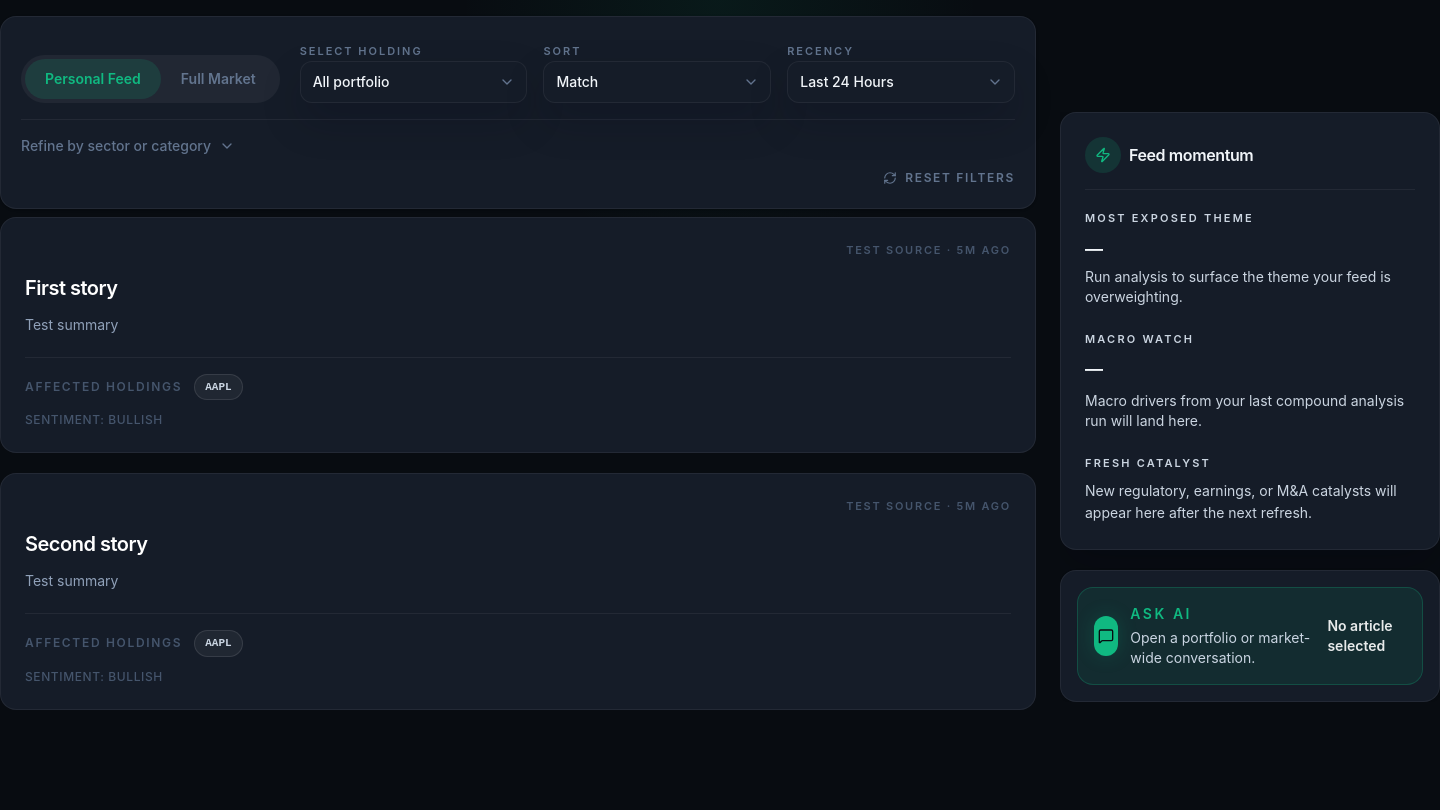
Test: FeedView › shows a confirmation modal before switching active story chats
Click the heading "First story" at (71, 288), box [25,276,118,300]
(page scrolled)
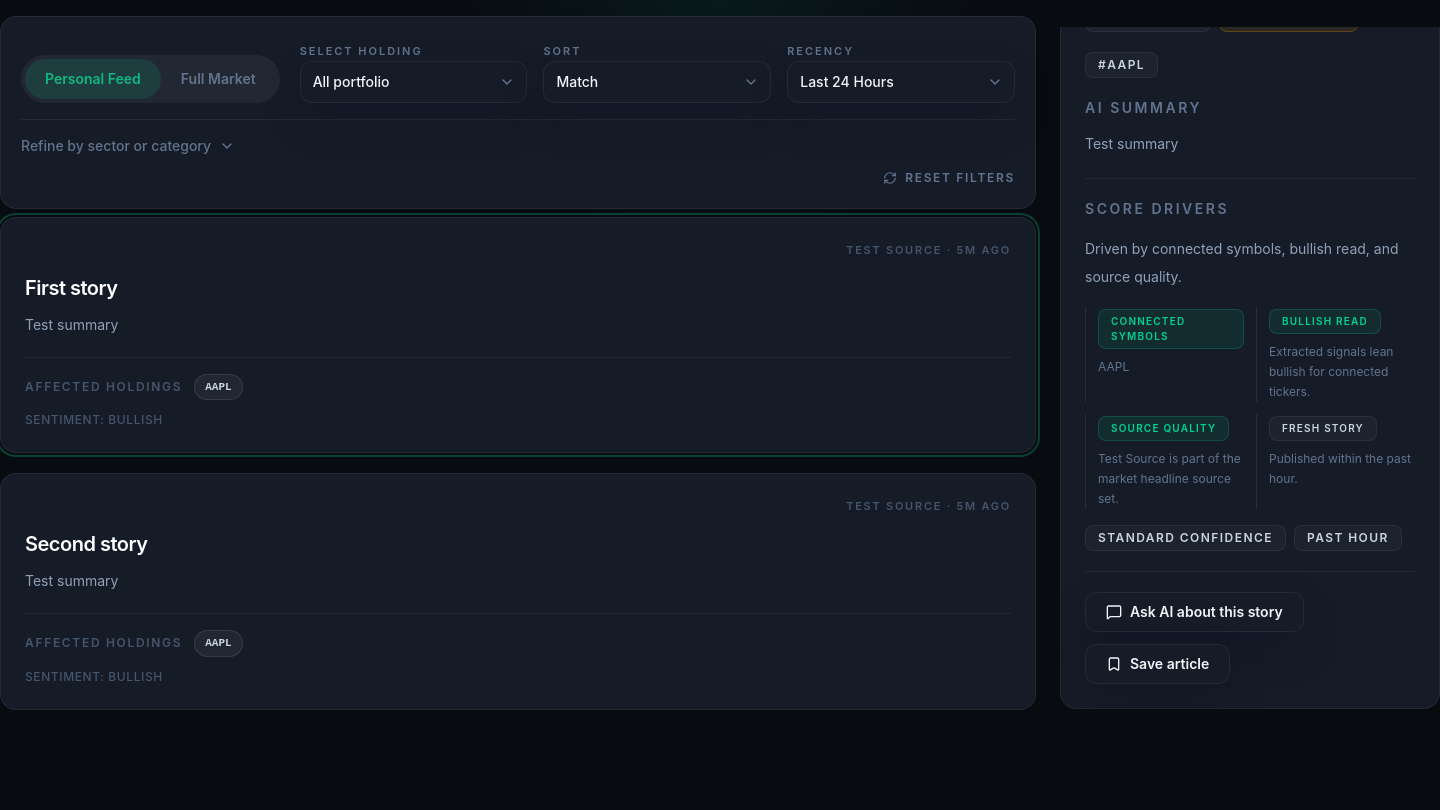
Click the button "Ask AI about this story" at (1194, 612), box [1085,592,1304,632]
(page scrolled)
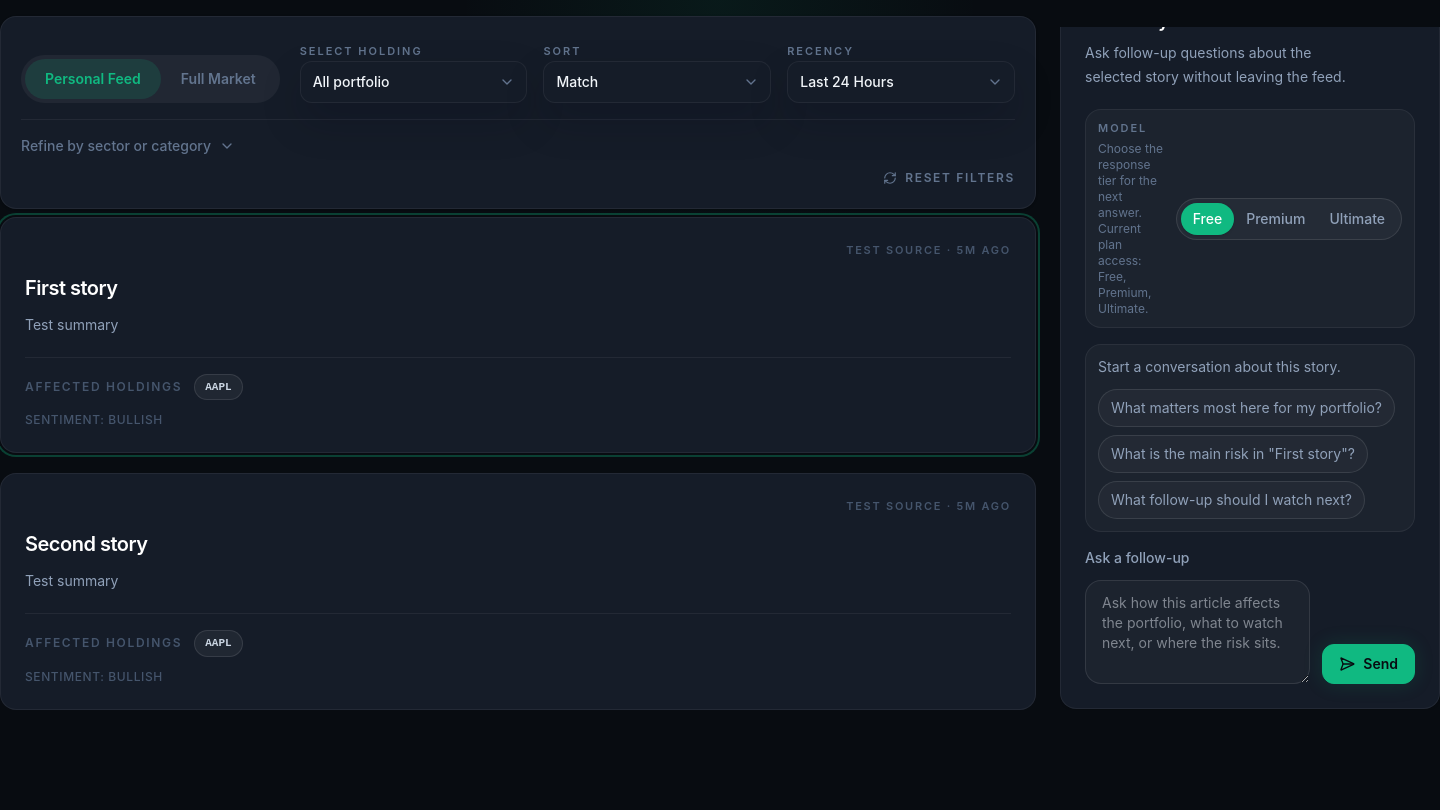
Replace the text in the text box labelled "Ask a follow-up" with "Tell me the risk here" at (1198, 632), box [1085,580,1310,684]
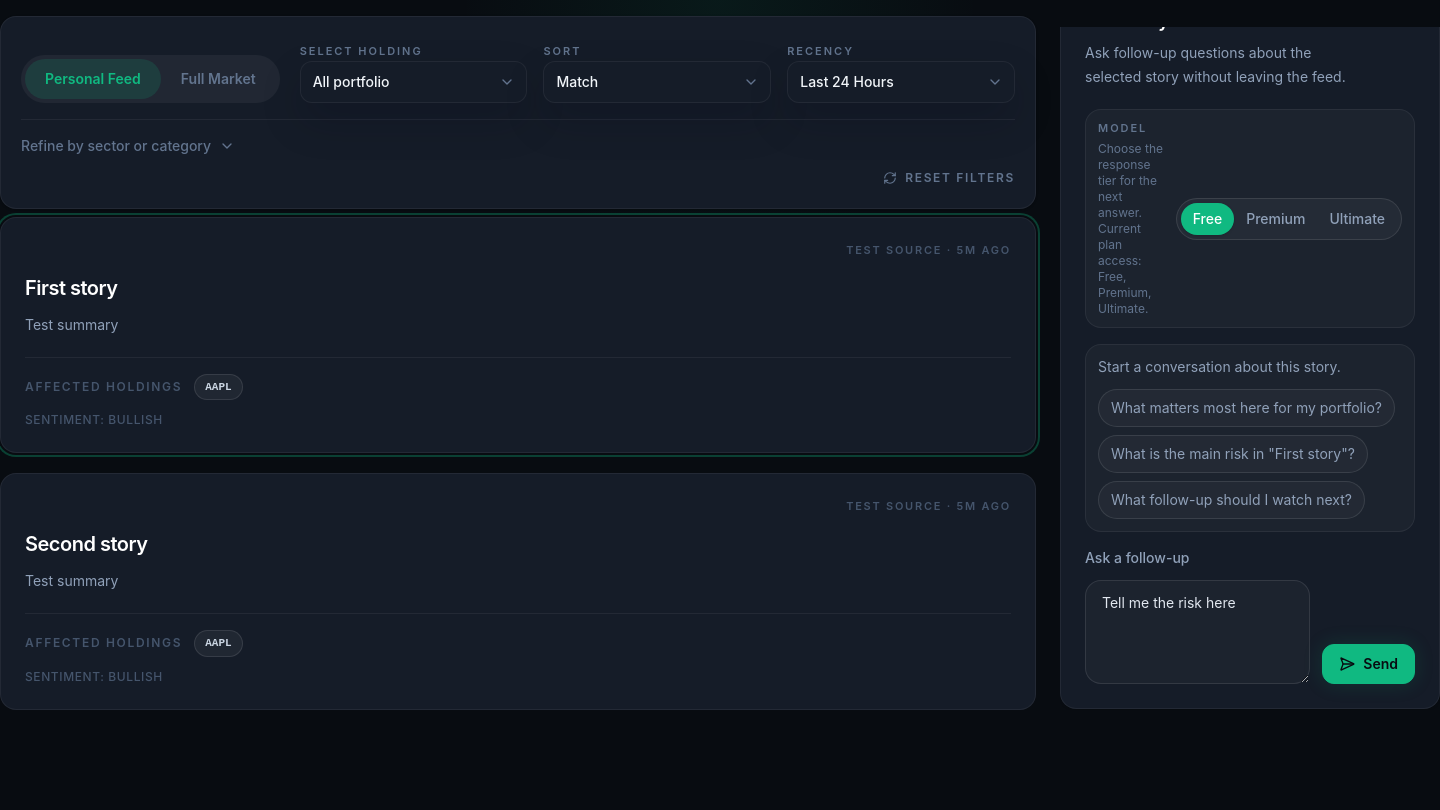
Click the heading "Second story" at (86, 544), box [25,532,148,556]
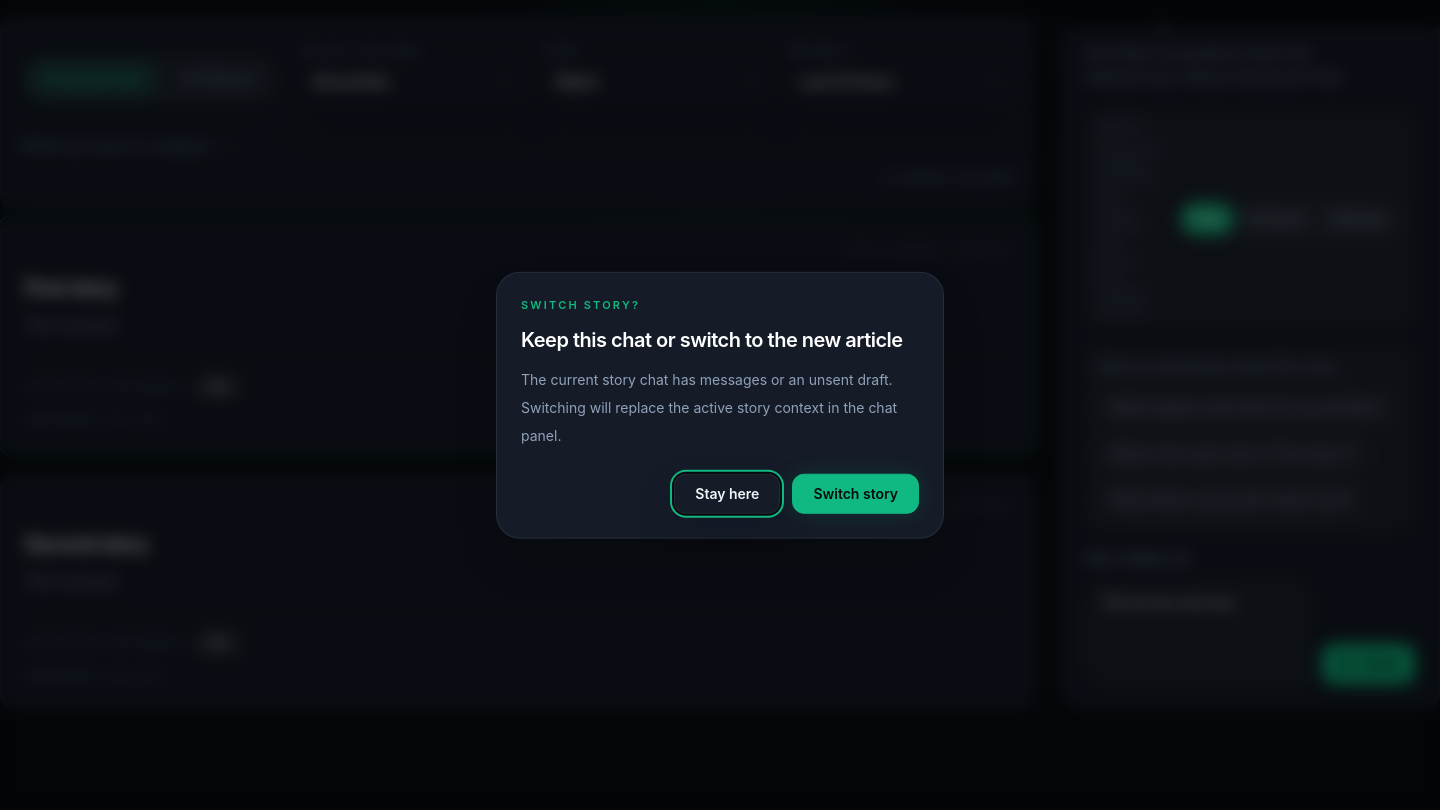
Check: the dialog named "switch story chat" is shown, box [496,272,944,538]
Click the button "Switch story" at (856, 493), box [792,473,919,513]
(page scrolled)
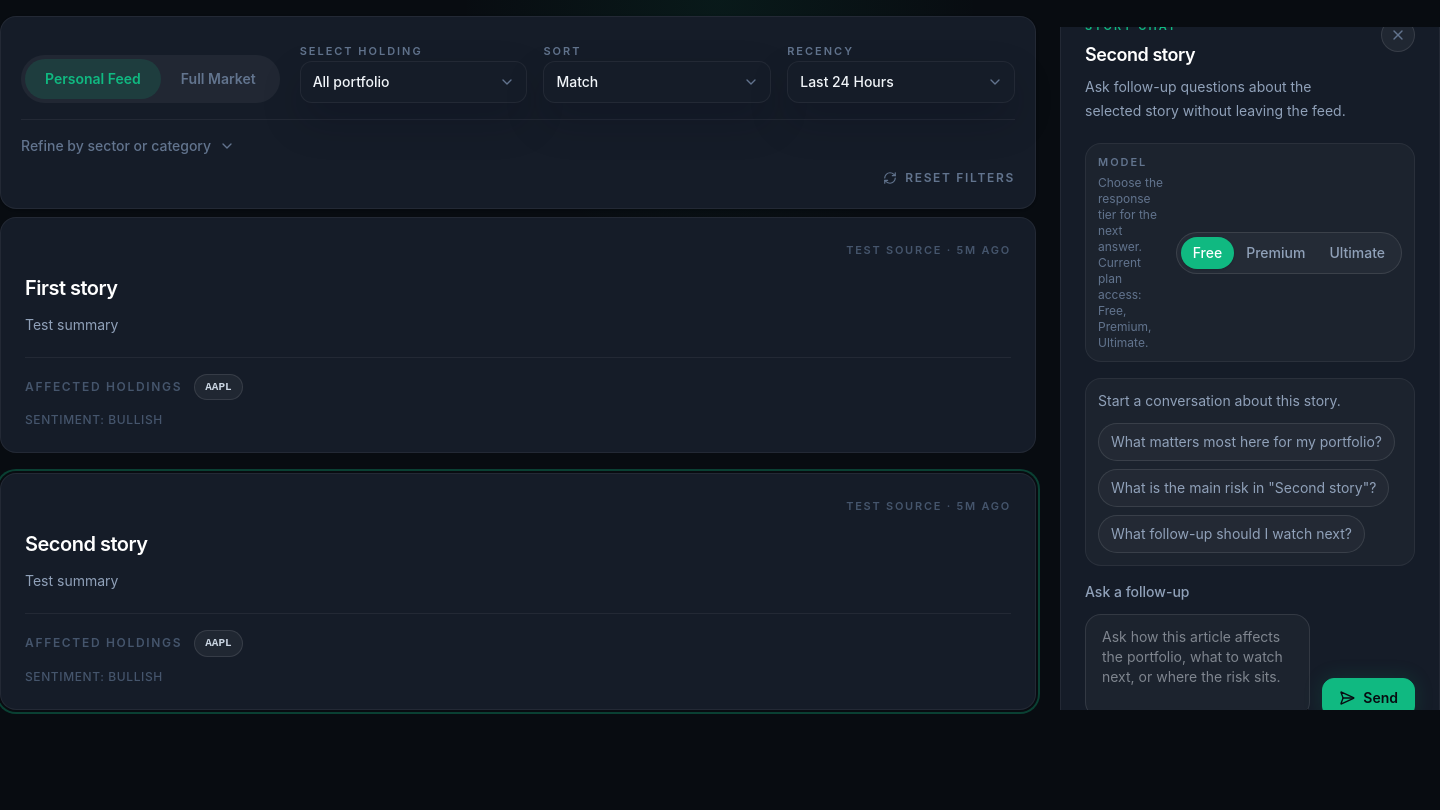
Check: the element with test id "story-chat-sidebar" shows "Second story", box [1085,44,1195,65]
